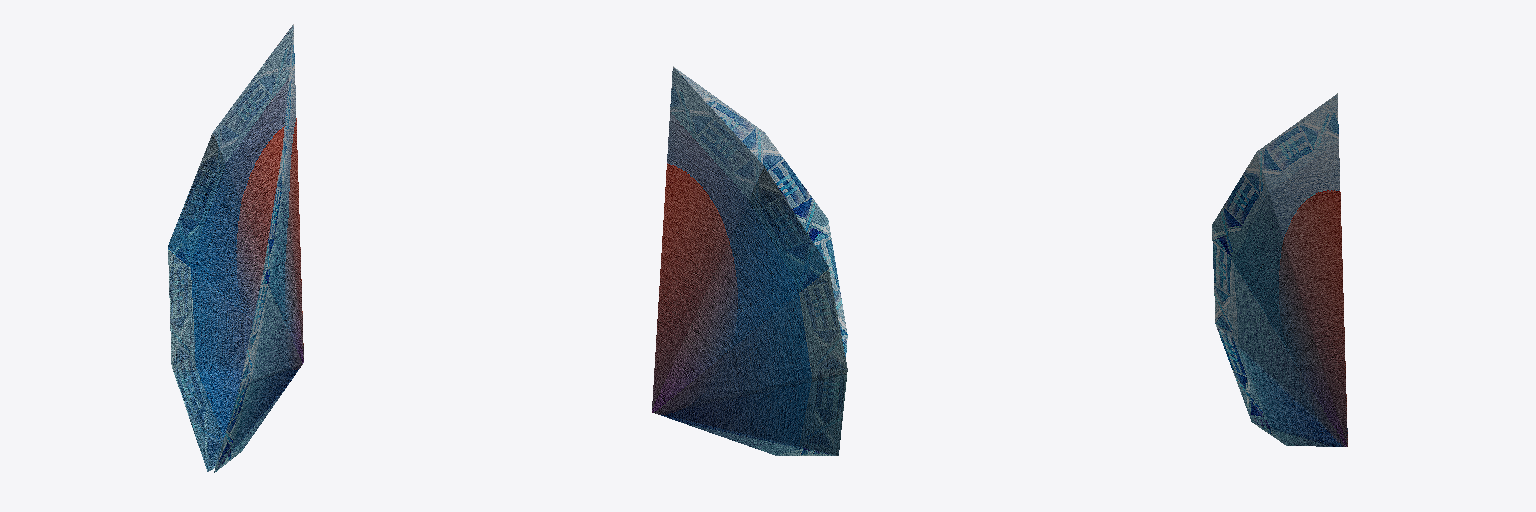
The picture shows the model from 3 angles: view 1: azimuth 30°, elevation 25°; view 2: azimuth 150°, elevation 25°; view 3: azimuth 270°, elevation 25°; orthographic projection.
Parts seen in each view (by area): view 1: ear_R; view 2: ear_R; view 3: ear_R.
Part boxes in pixels (x1,y1,x2,y2): ear_R: (168,24,303,472); ear_R: (652,66,847,455); ear_R: (1212,93,1347,446).
Size of the model in its own units: 258 by 586 by 185.
Materials: 1 (1 with a texture image).